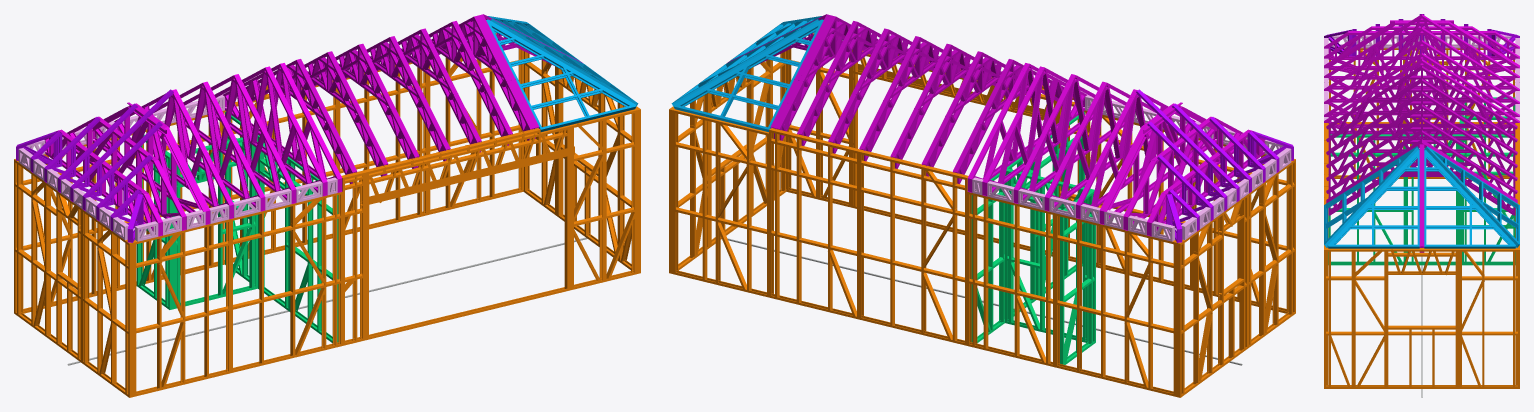
File: ConvertedANDsettings.glb
3 renders of one model, left to right at view 1: azimuth 30°, elevation 25°; view 2: azimuth 150°, elevation 25°; view 3: azimuth 270°, elevation 25°, orthographic. The views are drawn at different scales.
Visible parts, largest first — view 1: product-7cd7e691-731b-4836-afb1-0adf66f95960-body, product-4e5924be-b428-70fe-8ecc-68550b521f12-body, product-8389600e-3333-0818-d8e4-05cf80ac898e-body, product-e0e8d1e3-9054-a28e-cfc2-d6ae52b5056c-body, product-b4f7ae71-cb73-310e-6cc6-5574da52305c-body, product-b65e19cc-30a7-65d7-0b7d-db9c58786156-body, product-a59cac39-e8a5-5bce-c776-2c397d0fe1bb-body, product-732916ef-869e-1f9e-9ad8-91a28d20fe65-body, product-41e76050-1de6-9ea3-3705-e945035ef619-body, product-7263f207-6e9f-08aa-0c2f-9247b5f35556-body, product-0af5e89b-7706-48d7-e0bd-54b7cad9efff-body, product-5feea84b-663b-cb37-ad83-d1ac0e48399e-body (+45 smaller); view 2: product-23730f07-13f7-9b64-c526-9d5665430116-body, product-c8b5b58b-446e-4c4a-7a8b-f47990e35417-body, product-74d1ab87-8b97-6173-76b4-914843b74854-body, product-9966f41c-be8f-ebf2-ffb2-57305ea6a135-body, product-5e2068c1-c241-dd70-ed0d-746f37b3c9cd-body, product-75dd8c89-31c6-e5b0-321f-5e723913a411-body, product-70fe8dc0-2952-ed4a-ec8e-982977b747d4-body, product-c3501362-16d5-f845-8df0-c030d2a0cea2-body, product-3f6a9e51-bf81-b2f4-52d8-08d4ba1199f0-body, product-c1a25061-0d95-c3c6-c902-59be85cb5ac6-body, product-f1be782e-a461-72aa-519c-a2835092a767-body, product-ec4b49be-5a81-69ef-1147-c8a65dea5011-body (+55 smaller); view 3: product-e027bcdf-bf23-4163-f68c-d6ad1fcacf12-body, product-df4e6a88-1dfa-164a-75fe-562e9771f936-body, product-ad9a7643-4801-a44d-27ed-8258cb5d5859-body, product-45353a74-bfef-04f2-7d07-0dcd39f9542b-body, product-4b0373c3-2a1c-6705-872a-6232dc3cd935-body, product-472f3593-185d-ca3b-0eb8-169fb34e761a-body, product-67baec1b-942f-2912-6694-935819a9e102-body, product-cc424d6c-cfa0-c035-5080-35c0684ac06d-body, product-1fd8af86-2d54-7dc1-8eb5-fbb94ecbbd93-body, product-e054ee4e-8445-6d64-4c93-91efcfbf9da7-body, product-bcac108b-1bcd-fcab-5fcb-2a039c0a76bb-body, product-8360595f-2dfb-9b35-cd91-c71f36e8a30d-body (+87 smaller).
Boxes of the visible parts, bbox=[...] form: product-7cd7e691-731b-4836-afb1-0adf66f95960-body: bbox=[364, 146, 574, 205]; product-4e5924be-b428-70fe-8ecc-68550b521f12-body: bbox=[343, 278, 602, 345]; product-8389600e-3333-0818-d8e4-05cf80ac898e-body: bbox=[343, 117, 603, 183]; product-e0e8d1e3-9054-a28e-cfc2-d6ae52b5056c-body: bbox=[341, 128, 540, 179]; product-b4f7ae71-cb73-310e-6cc6-5574da52305c-body: bbox=[343, 132, 571, 190]; product-b65e19cc-30a7-65d7-0b7d-db9c58786156-body: bbox=[67, 237, 587, 365]; product-a59cac39-e8a5-5bce-c776-2c397d0fe1bb-body: bbox=[83, 211, 89, 364]; product-732916ef-869e-1f9e-9ad8-91a28d20fe65-body: bbox=[352, 174, 357, 342]; product-41e76050-1de6-9ea3-3705-e945035ef619-body: bbox=[128, 243, 133, 397]; product-7263f207-6e9f-08aa-0c2f-9247b5f35556-body: bbox=[631, 110, 636, 274]; product-0af5e89b-7706-48d7-e0bd-54b7cad9efff-body: bbox=[564, 127, 569, 290]; product-5feea84b-663b-cb37-ad83-d1ac0e48399e-body: bbox=[332, 193, 337, 347]; product-23730f07-13f7-9b64-c526-9d5665430116-body: bbox=[1239, 199, 1245, 350]; product-c8b5b58b-446e-4c4a-7a8b-f47990e35417-body: bbox=[796, 137, 801, 304]; product-74d1ab87-8b97-6173-76b4-914843b74854-body: bbox=[952, 175, 957, 342]; product-9966f41c-be8f-ebf2-ffb2-57305ea6a135-body: bbox=[702, 117, 707, 281]; product-5e2068c1-c241-dd70-ed0d-746f37b3c9cd-body: bbox=[673, 110, 678, 273]; product-75dd8c89-31c6-e5b0-321f-5e723913a411-body: bbox=[1176, 243, 1181, 397]; product-70fe8dc0-2952-ed4a-ec8e-982977b747d4-body: bbox=[921, 167, 926, 334]; product-c3501362-16d5-f845-8df0-c030d2a0cea2-body: bbox=[983, 196, 988, 349]; product-3f6a9e51-bf81-b2f4-52d8-08d4ba1199f0-body: bbox=[972, 193, 977, 347]; product-c1a25061-0d95-c3c6-c902-59be85cb5ac6-body: bbox=[715, 121, 720, 283]; product-f1be782e-a461-72aa-519c-a2835092a767-body: bbox=[1287, 162, 1292, 315]; product-ec4b49be-5a81-69ef-1147-c8a65dea5011-body: bbox=[1014, 203, 1019, 357]; product-e027bcdf-bf23-4163-f68c-d6ad1fcacf12-body: bbox=[1419, 144, 1424, 246]; product-df4e6a88-1dfa-164a-75fe-562e9771f936-body: bbox=[1325, 147, 1419, 247]; product-ad9a7643-4801-a44d-27ed-8258cb5d5859-body: bbox=[1424, 147, 1518, 247]; product-45353a74-bfef-04f2-7d07-0dcd39f9542b-body: bbox=[1353, 331, 1459, 335]; product-4b0373c3-2a1c-6705-872a-6232dc3cd935-body: bbox=[1424, 146, 1519, 208]; product-472f3593-185d-ca3b-0eb8-169fb34e761a-body: bbox=[1324, 146, 1419, 208]; product-67baec1b-942f-2912-6694-935819a9e102-body: bbox=[1421, 59, 1519, 122]; product-cc424d6c-cfa0-c035-5080-35c0684ac06d-body: bbox=[1421, 53, 1519, 116]; product-1fd8af86-2d54-7dc1-8eb5-fbb94ecbbd93-body: bbox=[1324, 59, 1422, 122]; product-e054ee4e-8445-6d64-4c93-91efcfbf9da7-body: bbox=[1324, 27, 1422, 90]; product-bcac108b-1bcd-fcab-5fcb-2a039c0a76bb-body: bbox=[1324, 40, 1422, 103]; product-8360595f-2dfb-9b35-cd91-c71f36e8a30d-body: bbox=[1421, 27, 1519, 90].
Bounding box in the file's own units: 10 × 4.6 × 3.85.
